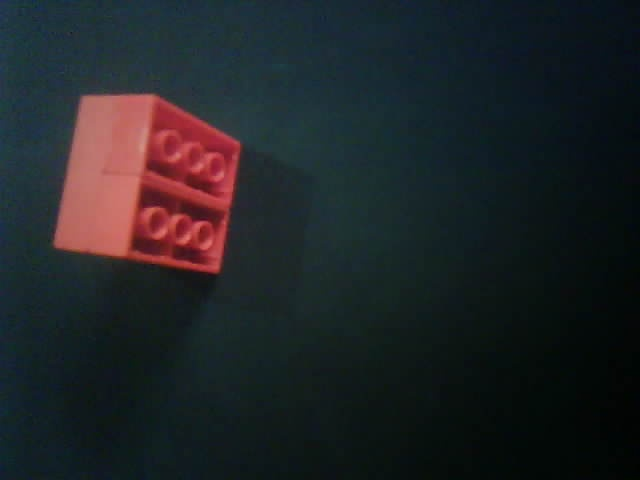lego: (51, 92, 241, 275)
